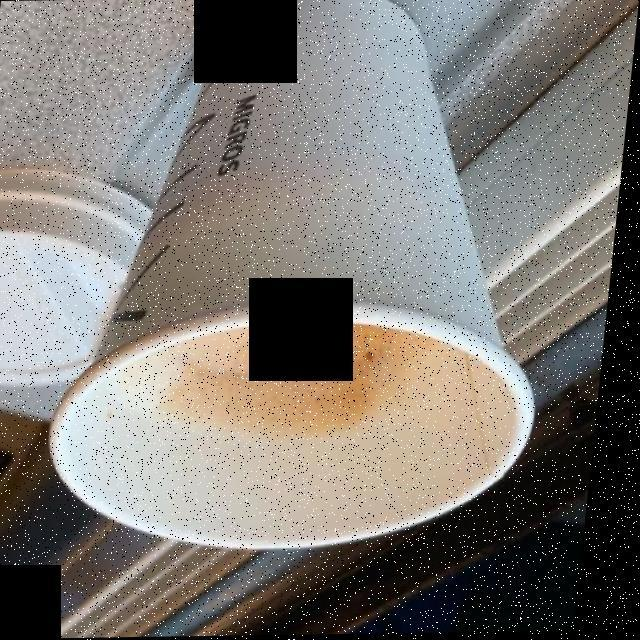coffee: (125, 326, 490, 442)
